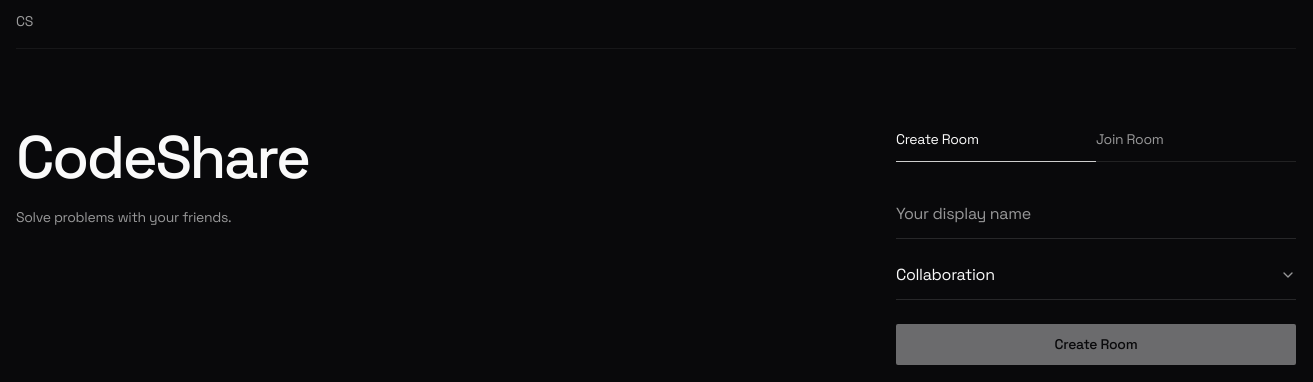
Test: Join tab - room code input › handles uppercase input
The image size is (1313, 382).
Click the tab with test id "tab-join".
click(1196, 146)  # box [1096, 129, 1296, 162]
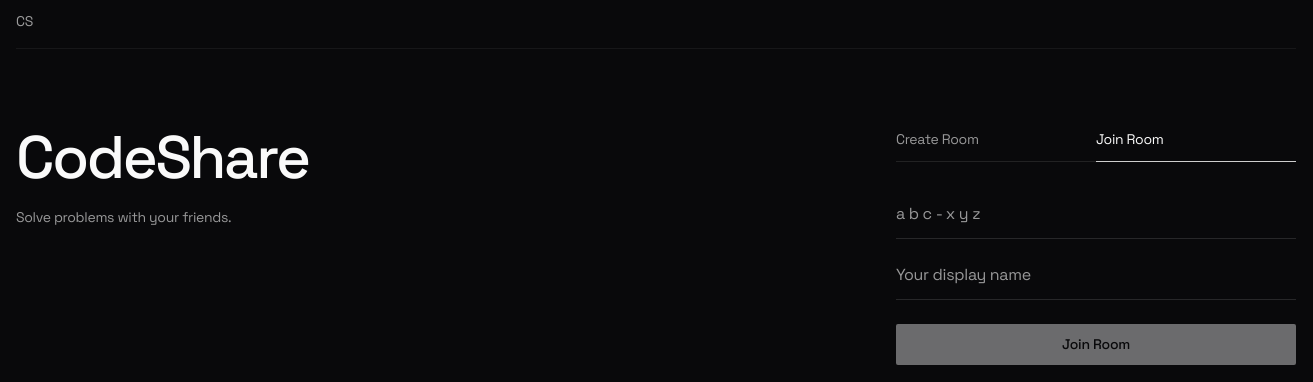
Type "ABCXYZ" into the field with test id "room-code-input".
click(1096, 220); type("ABCXYZ")  # box [896, 202, 1296, 239]
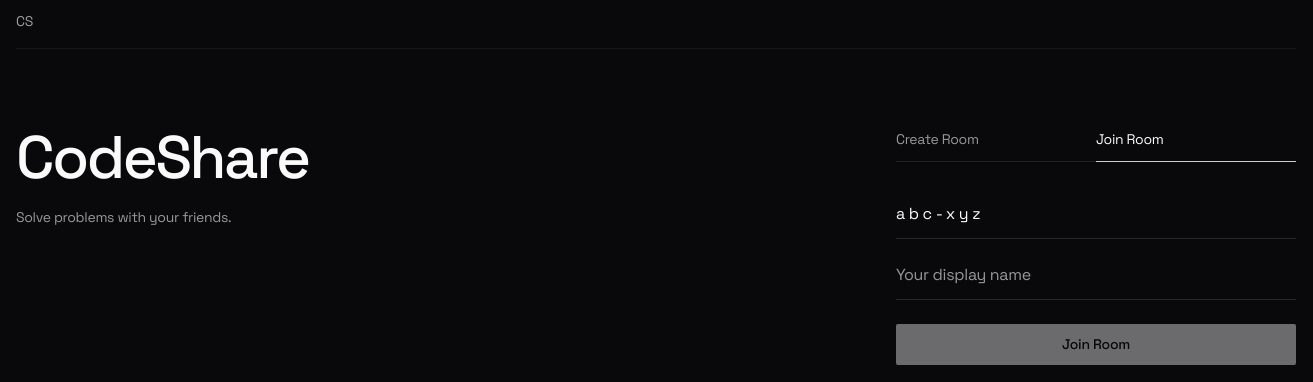
Check: the field with test id "room-code-input" holds "abc-xyz", box [896, 202, 1296, 239]
